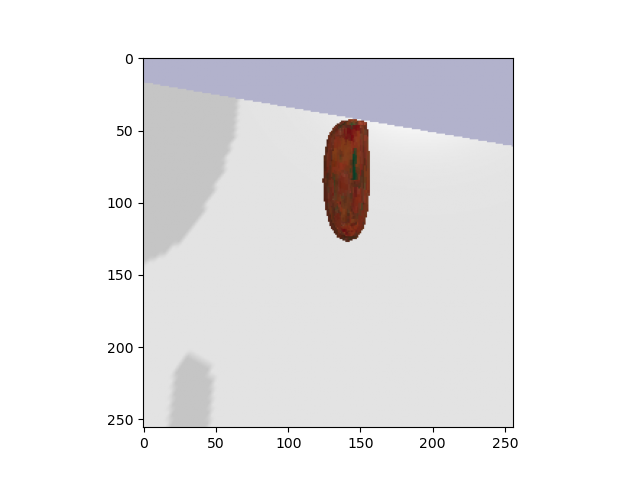v249b387_106: (316, 110, 384, 257)
